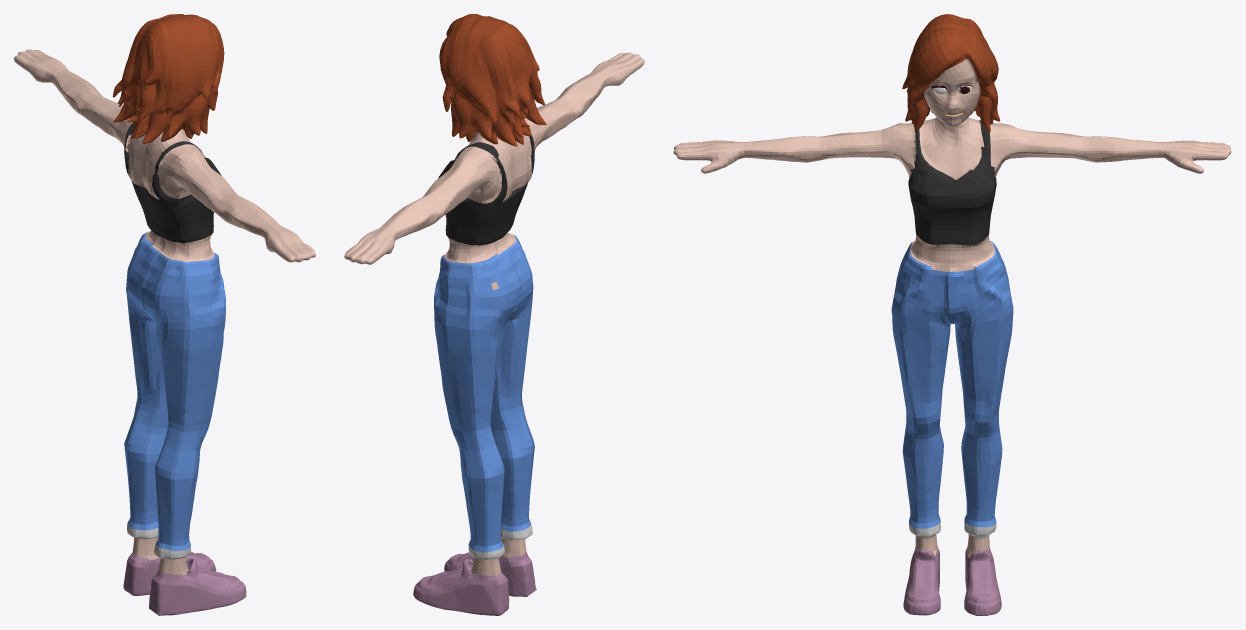
The model's file is woman1.fbx.
3 views of the same model, side by side, from view 1: azimuth 30°, elevation 25°; view 2: azimuth 150°, elevation 25°; view 3: azimuth 270°, elevation 25° (orthographic).
Visible parts, largest first — view 1: Sphere.018; view 2: Sphere.018; view 3: Sphere.018.
Boxes of the visible parts, x1=… form: Sphere.018: x1=14, y1=14, x2=315, y2=615; Sphere.018: x1=344, y1=14, x2=644, y2=615; Sphere.018: x1=673, y1=14, x2=1231, y2=615.
Bounding box in the file's own units: 18.73 × 99.95 × 88.29.
